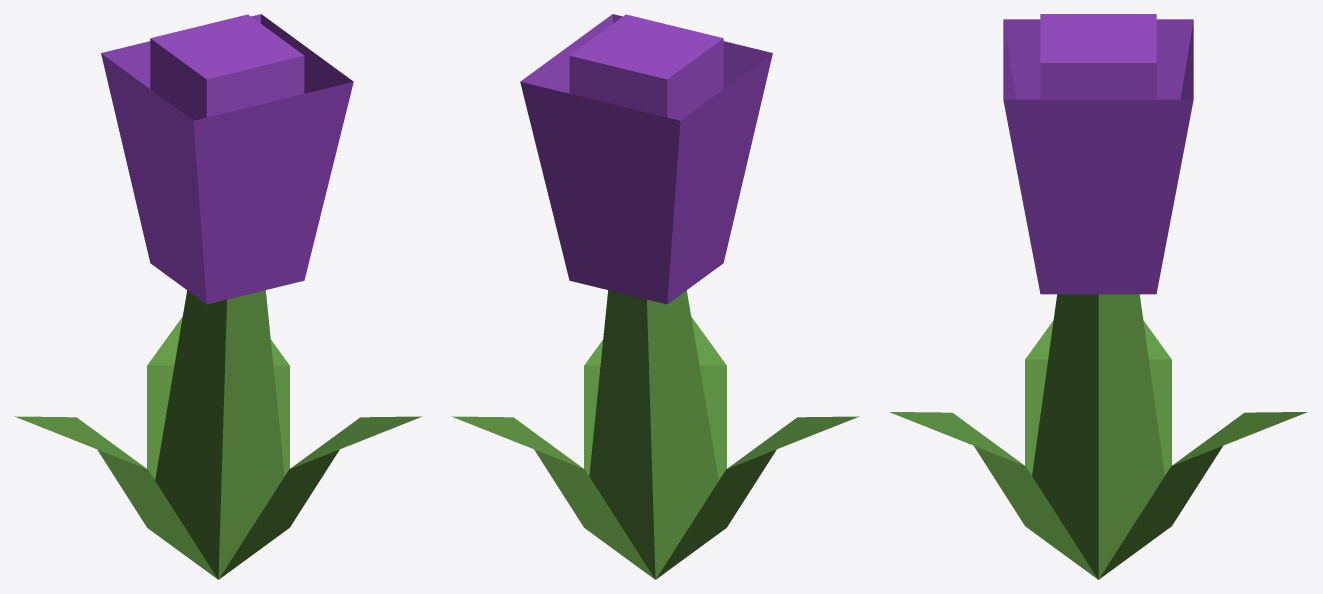
The model's file is flower-5.glb.
3 renders of one model, left to right at view 1: azimuth 30°, elevation 25°; view 2: azimuth 150°, elevation 25°; view 3: azimuth 270°, elevation 25°, orthographic. The views are drawn at different scales.
Parts seen in each view (by area): view 1: flower_purpleA; view 2: flower_purpleA; view 3: flower_purpleA.
Boxes of the visible parts, <box> form: flower_purpleA: <box>14,14,422,579</box>; flower_purpleA: <box>451,14,859,579</box>; flower_purpleA: <box>889,14,1307,579</box>.
Bounding box in the file's own units: 0.1968 × 0.3 × 0.224.
